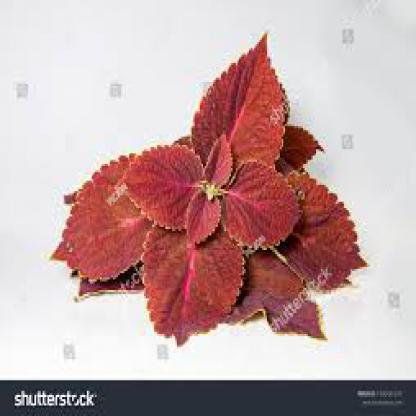Bunga Coleus: (80, 48, 350, 342)
